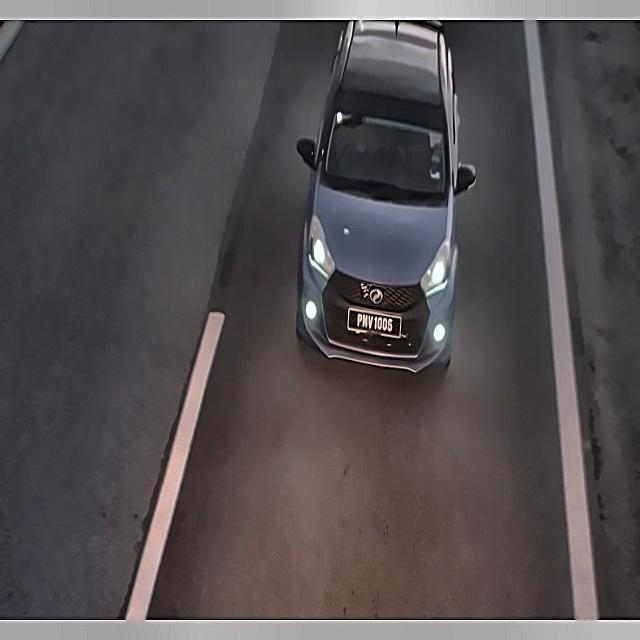car: (346, 305, 406, 345)
